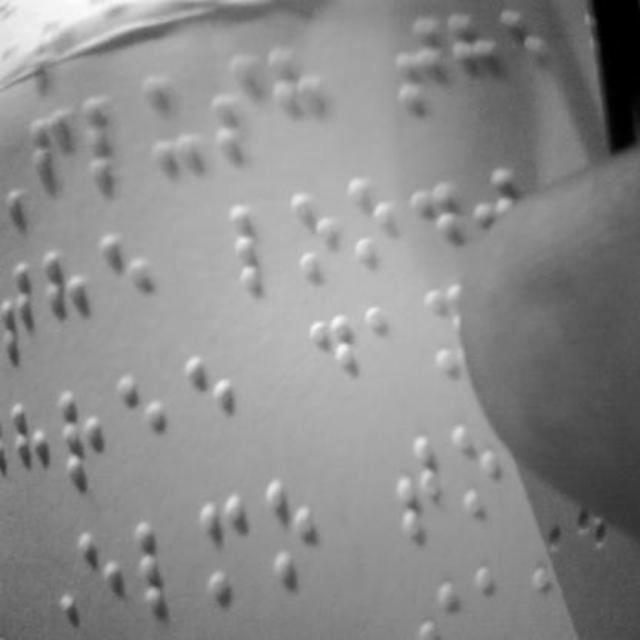braiile: (268, 474, 334, 590), (193, 489, 254, 613), (4, 392, 60, 516), (43, 239, 99, 359), (302, 306, 362, 418), (392, 430, 446, 554), (269, 38, 329, 148), (144, 66, 202, 178), (134, 510, 194, 618), (450, 414, 504, 534), (24, 102, 80, 216), (102, 224, 156, 342), (61, 386, 121, 492), (84, 82, 140, 194), (74, 518, 132, 626), (346, 170, 404, 276), (209, 57, 265, 166), (286, 185, 342, 292), (184, 344, 236, 454), (118, 362, 172, 466), (229, 196, 281, 296), (398, 15, 446, 119), (0, 248, 40, 360)
